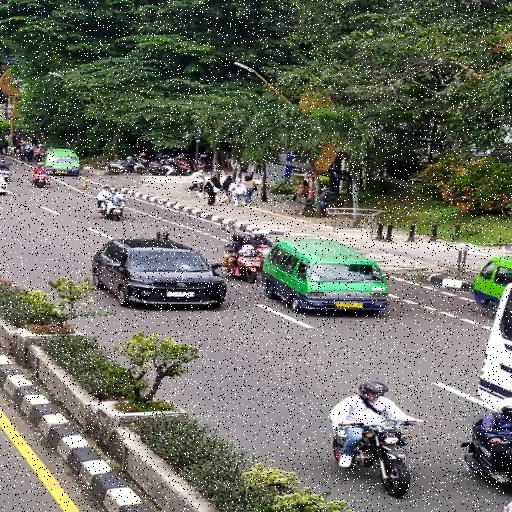Helmet: (351, 372, 388, 408), (232, 229, 252, 246), (104, 183, 118, 194), (37, 161, 43, 168)
Motor: (333, 419, 412, 497), (222, 249, 259, 284), (100, 197, 126, 223), (29, 172, 51, 188)
